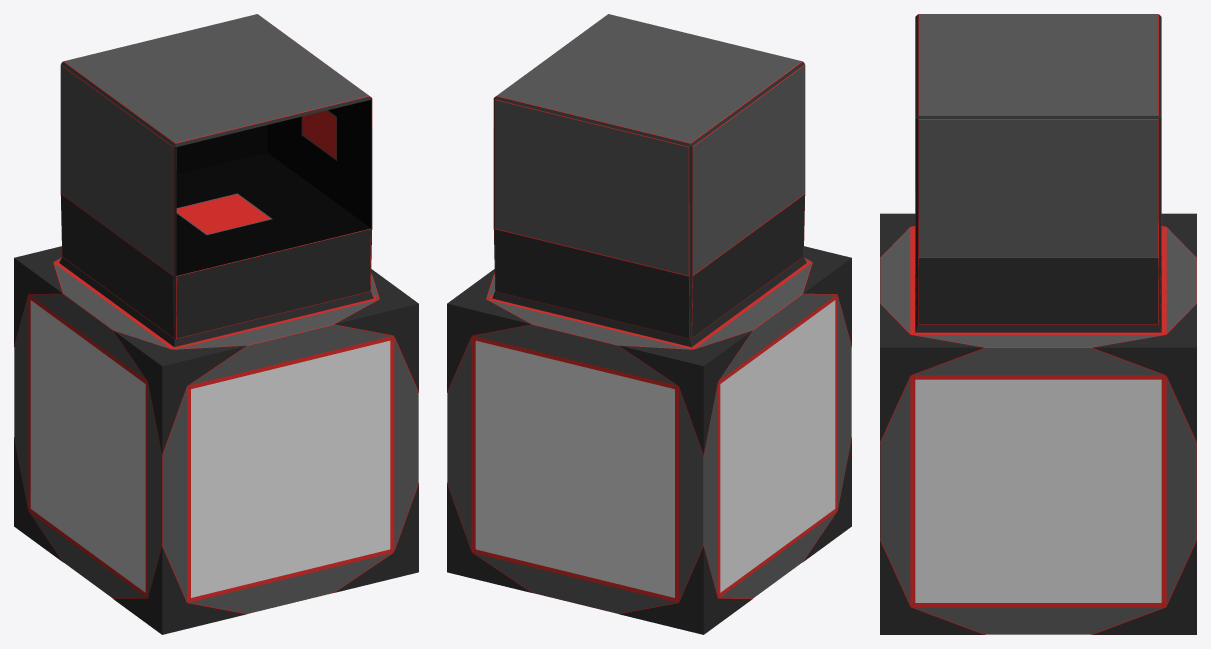
Rendered from dispenserPlatform.fbx.
The picture shows the model from 3 angles, left to right: view 1: azimuth 30°, elevation 25°; view 2: azimuth 150°, elevation 25°; view 3: azimuth 270°, elevation 25°; orthographic projection. The views are drawn at different scales.
Parts seen in each view (by area): view 1: Cube; view 2: Cube; view 3: Cube.
Boxes of the visible parts, box(x1,y1,x2,y2) form: Cube: box(14, 14, 418, 634); Cube: box(447, 14, 851, 634); Cube: box(880, 14, 1196, 634).
Size of the model in its own units: 200 by 351 by 200.
